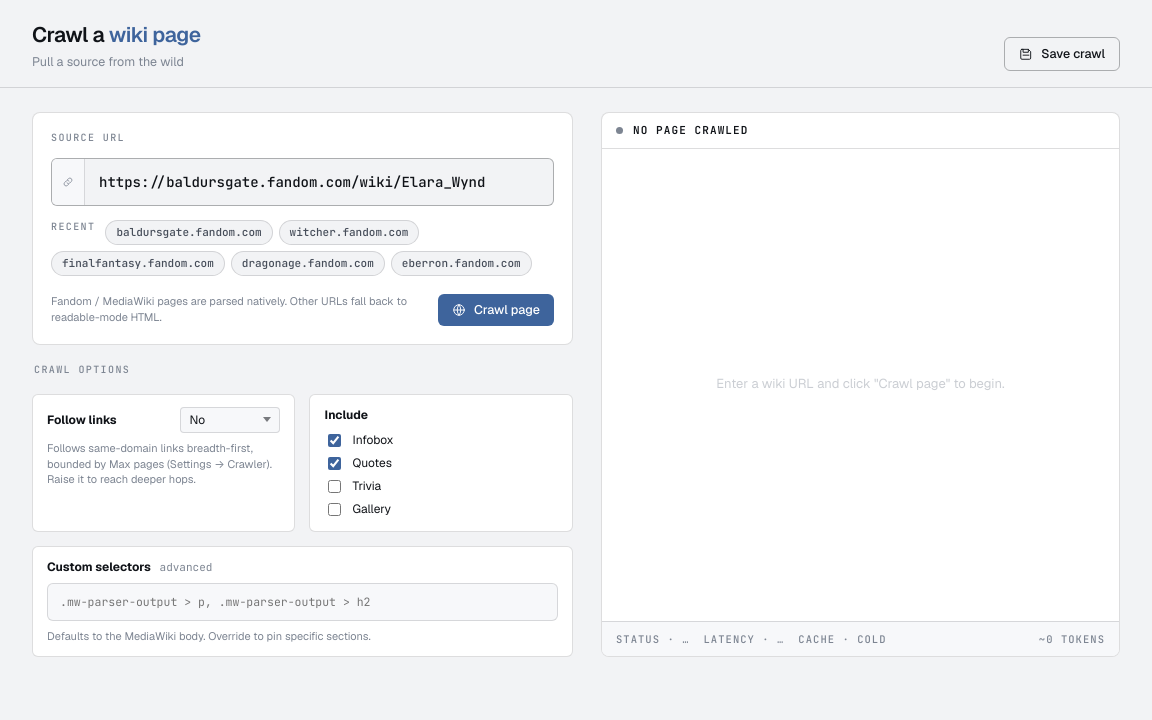
CrawlerScreen › shows toast on crawl failure
This screenshot has width=1152, height=720.
Click the button "Crawl page".
click(496, 310)  # box [438,294,554,326]
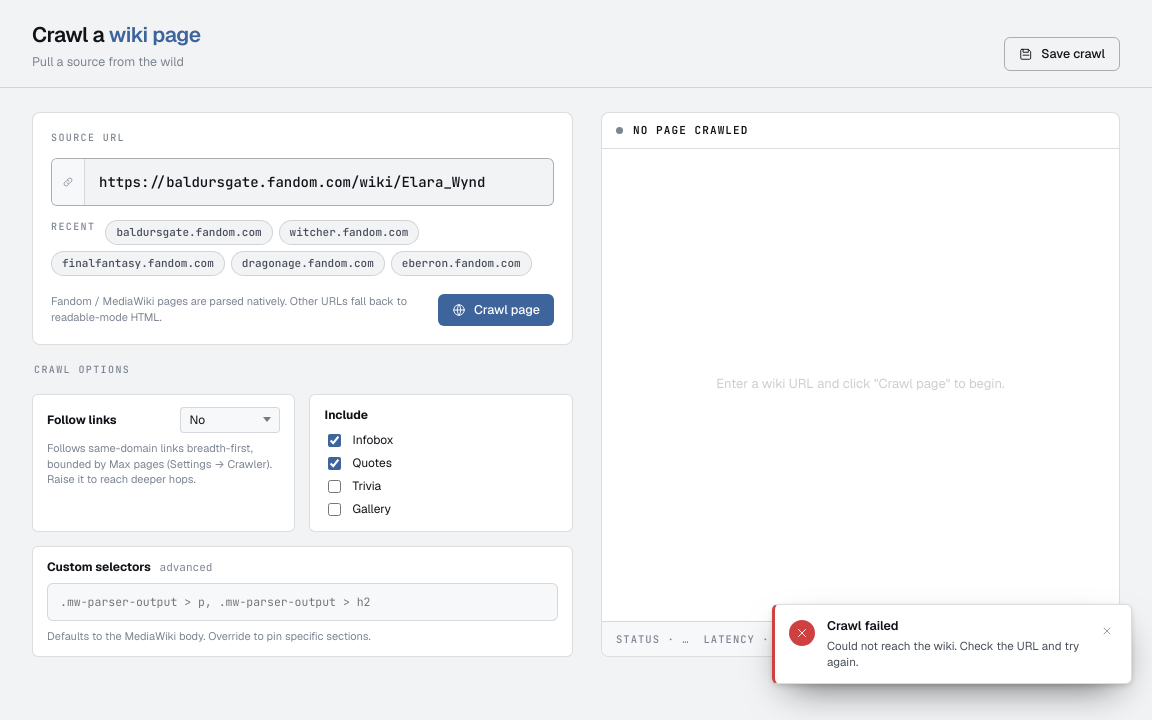
Expected: the text "Crawl failed" is shown, [827,617,898,634]
